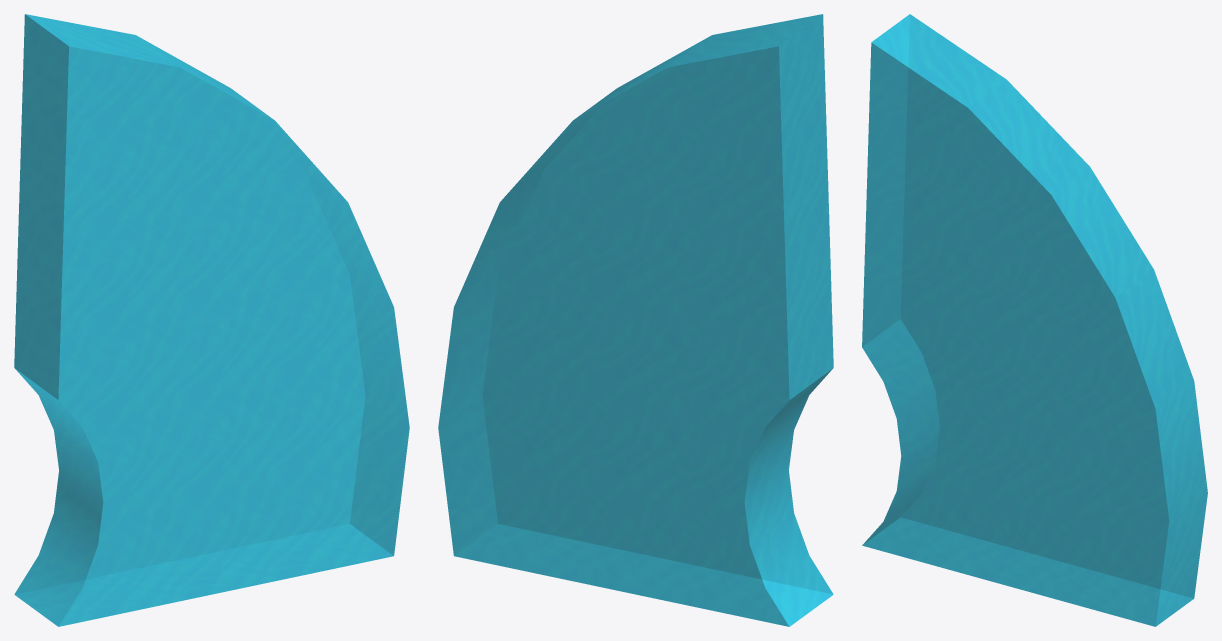
File: GlassPart_01.fbx
3 renders of one model, left to right at view 1: azimuth 30°, elevation 25°; view 2: azimuth 150°, elevation 25°; view 3: azimuth 330°, elevation 25°, orthographic. The views are drawn at different scales.
Visible parts, largest first — view 1: Model; view 2: Model; view 3: Model.
Boxes of the visible parts, x1,y1,x2,y2 form: Model: (14,14,409,626); Model: (438,14,833,626); Model: (862,14,1207,626).
Bounding box in the file's own units: 2.29 × 3.67 × 0.5.
